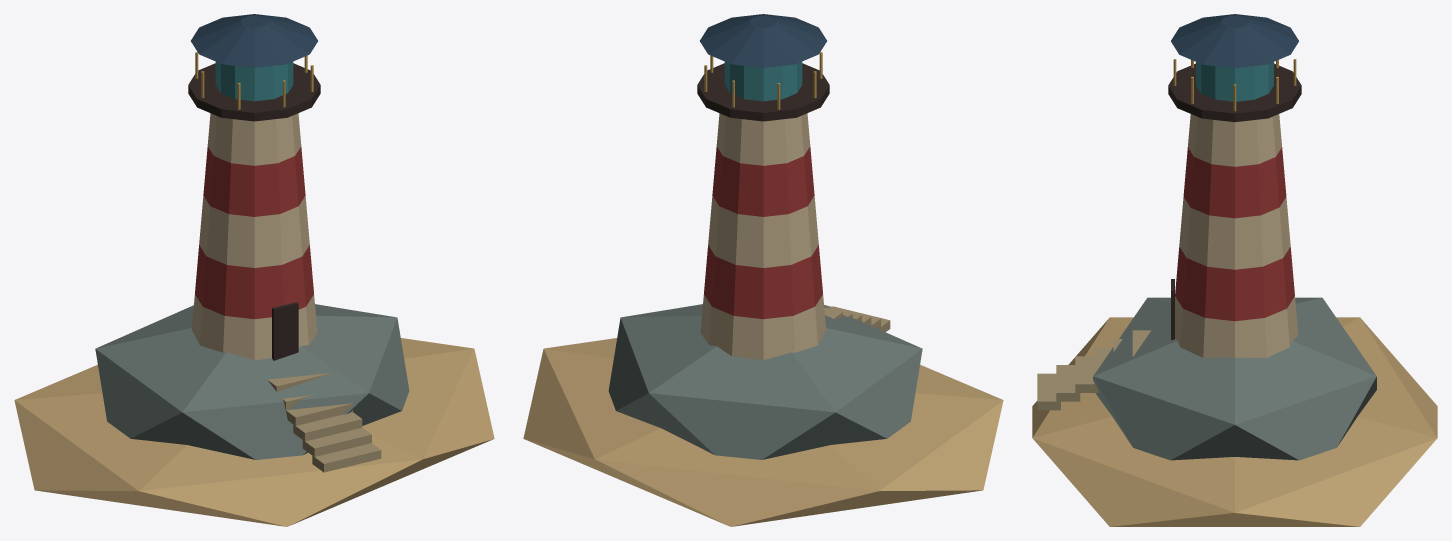
Rendered from PirateCove_LighthouseIsland_Standard.glb.
3 views of the same model, side by side, from view 1: azimuth 30°, elevation 25°; view 2: azimuth 150°, elevation 25°; view 3: azimuth 270°, elevation 25° (orthographic).
Parts seen in each view (by area): view 1: PirateCove_LighthouseIsland_Standard; view 2: PirateCove_LighthouseIsland_Standard; view 3: PirateCove_LighthouseIsland_Standard.
Part boxes in pixels (x1,y1,x2,y2): PirateCove_LighthouseIsland_Standard: (14, 14, 494, 526); PirateCove_LighthouseIsland_Standard: (523, 14, 1003, 526); PirateCove_LighthouseIsland_Standard: (1032, 14, 1437, 526).
Size of the model in its own units: 10.73 by 10.18 by 8.51.
